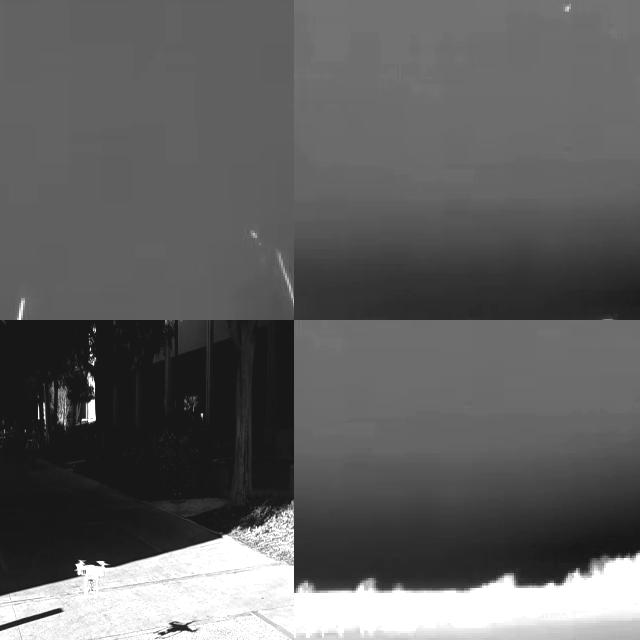0: (242, 220, 264, 250), (554, 1, 574, 22)
drone: (75, 560, 108, 607)
